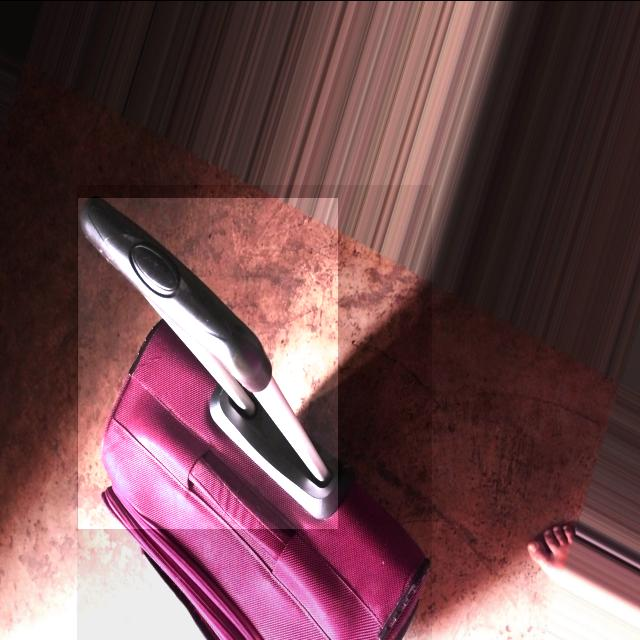Bag: (67, 197, 451, 640)
Handle: (84, 204, 342, 527)
